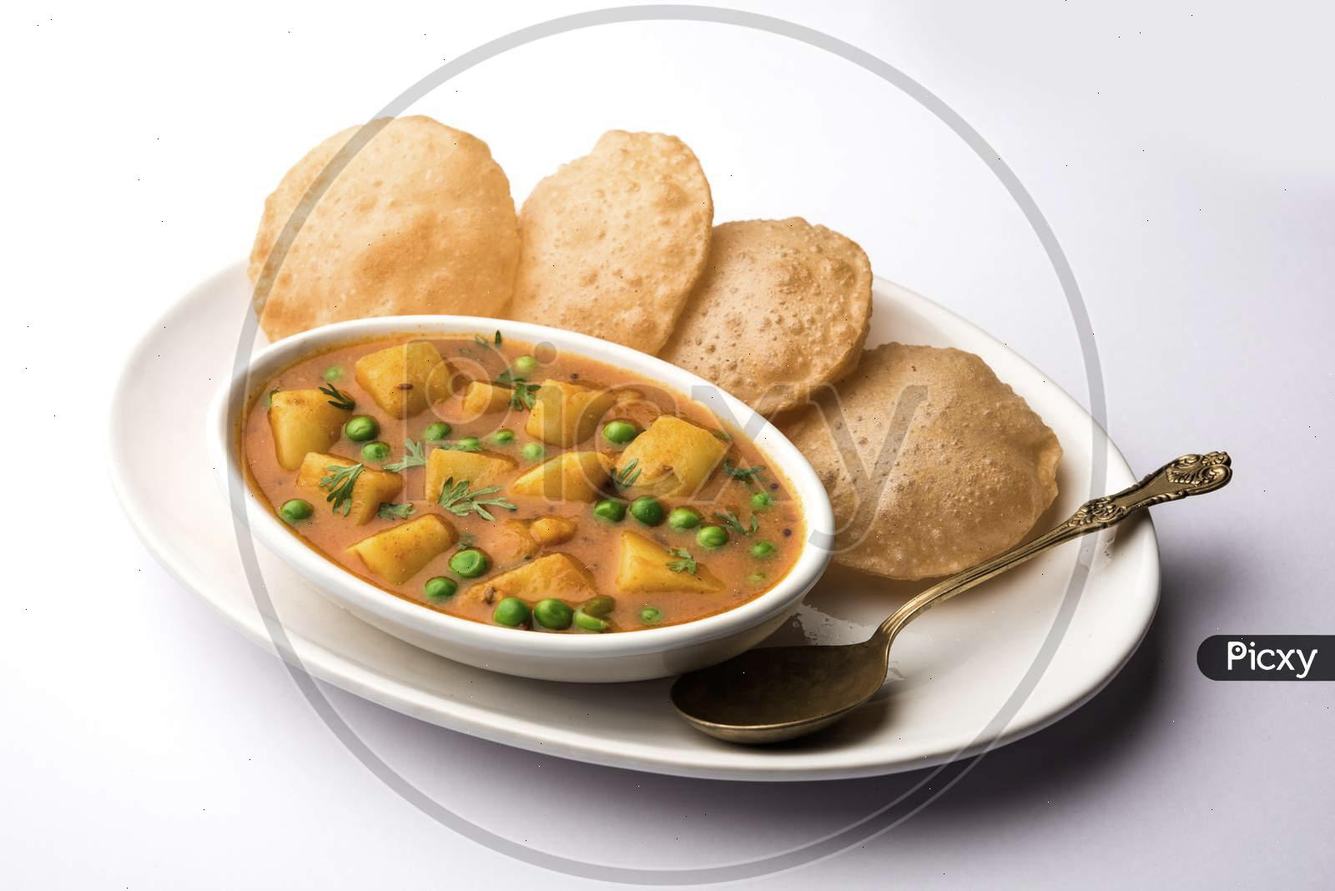puri: (252, 119, 974, 330)
